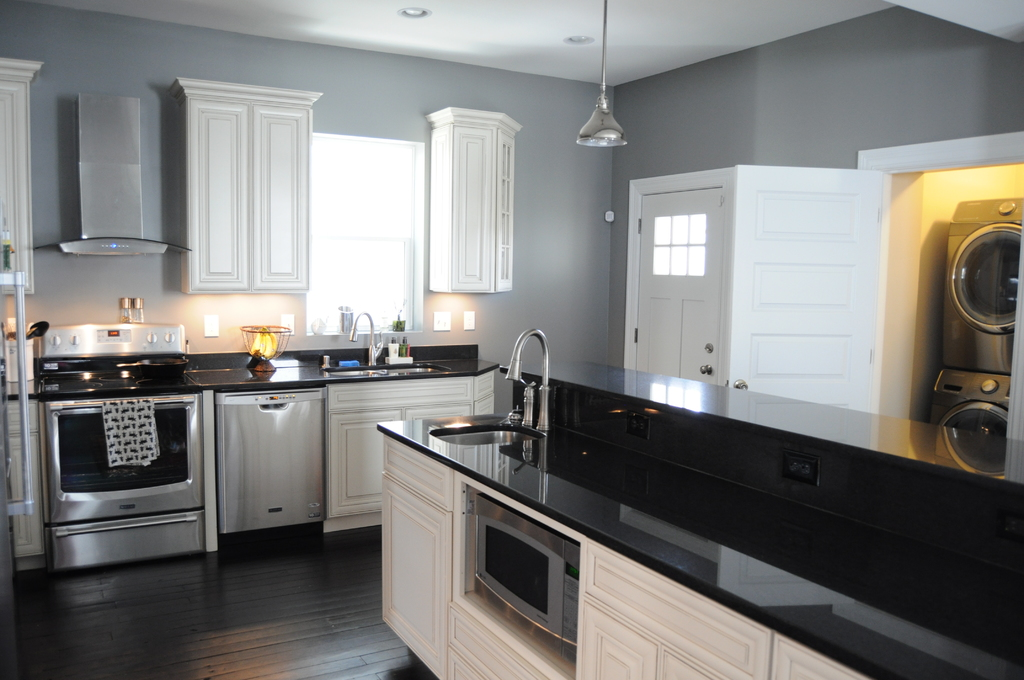tap: (455, 320, 570, 507), (346, 307, 382, 365)
